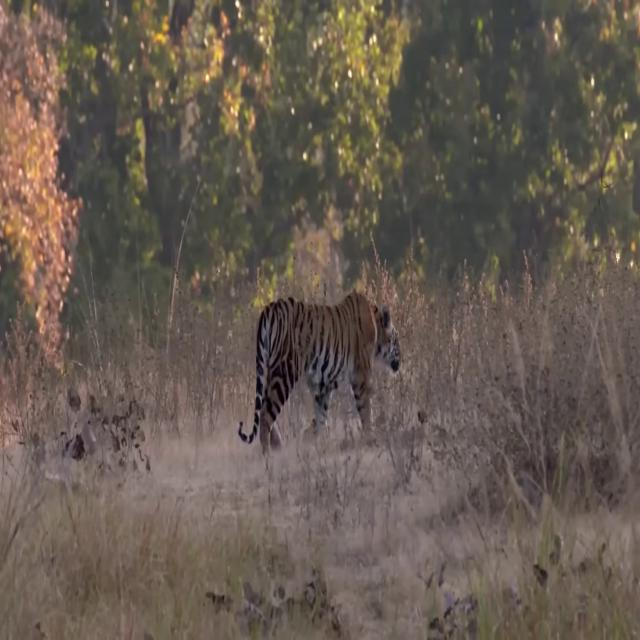tiger: (238, 289, 402, 446)
